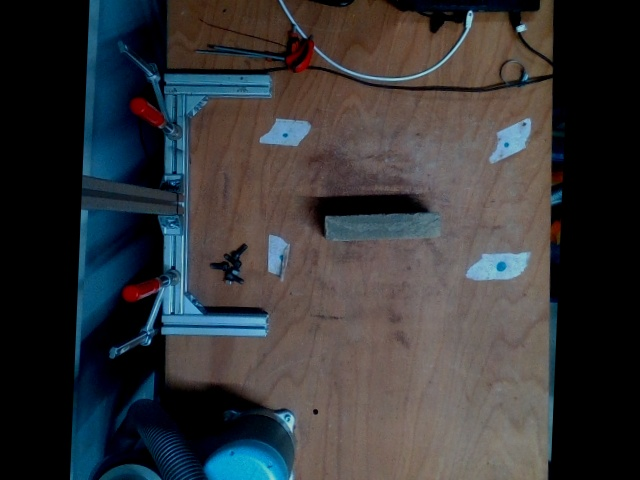brick-side: (323, 211, 438, 241)
